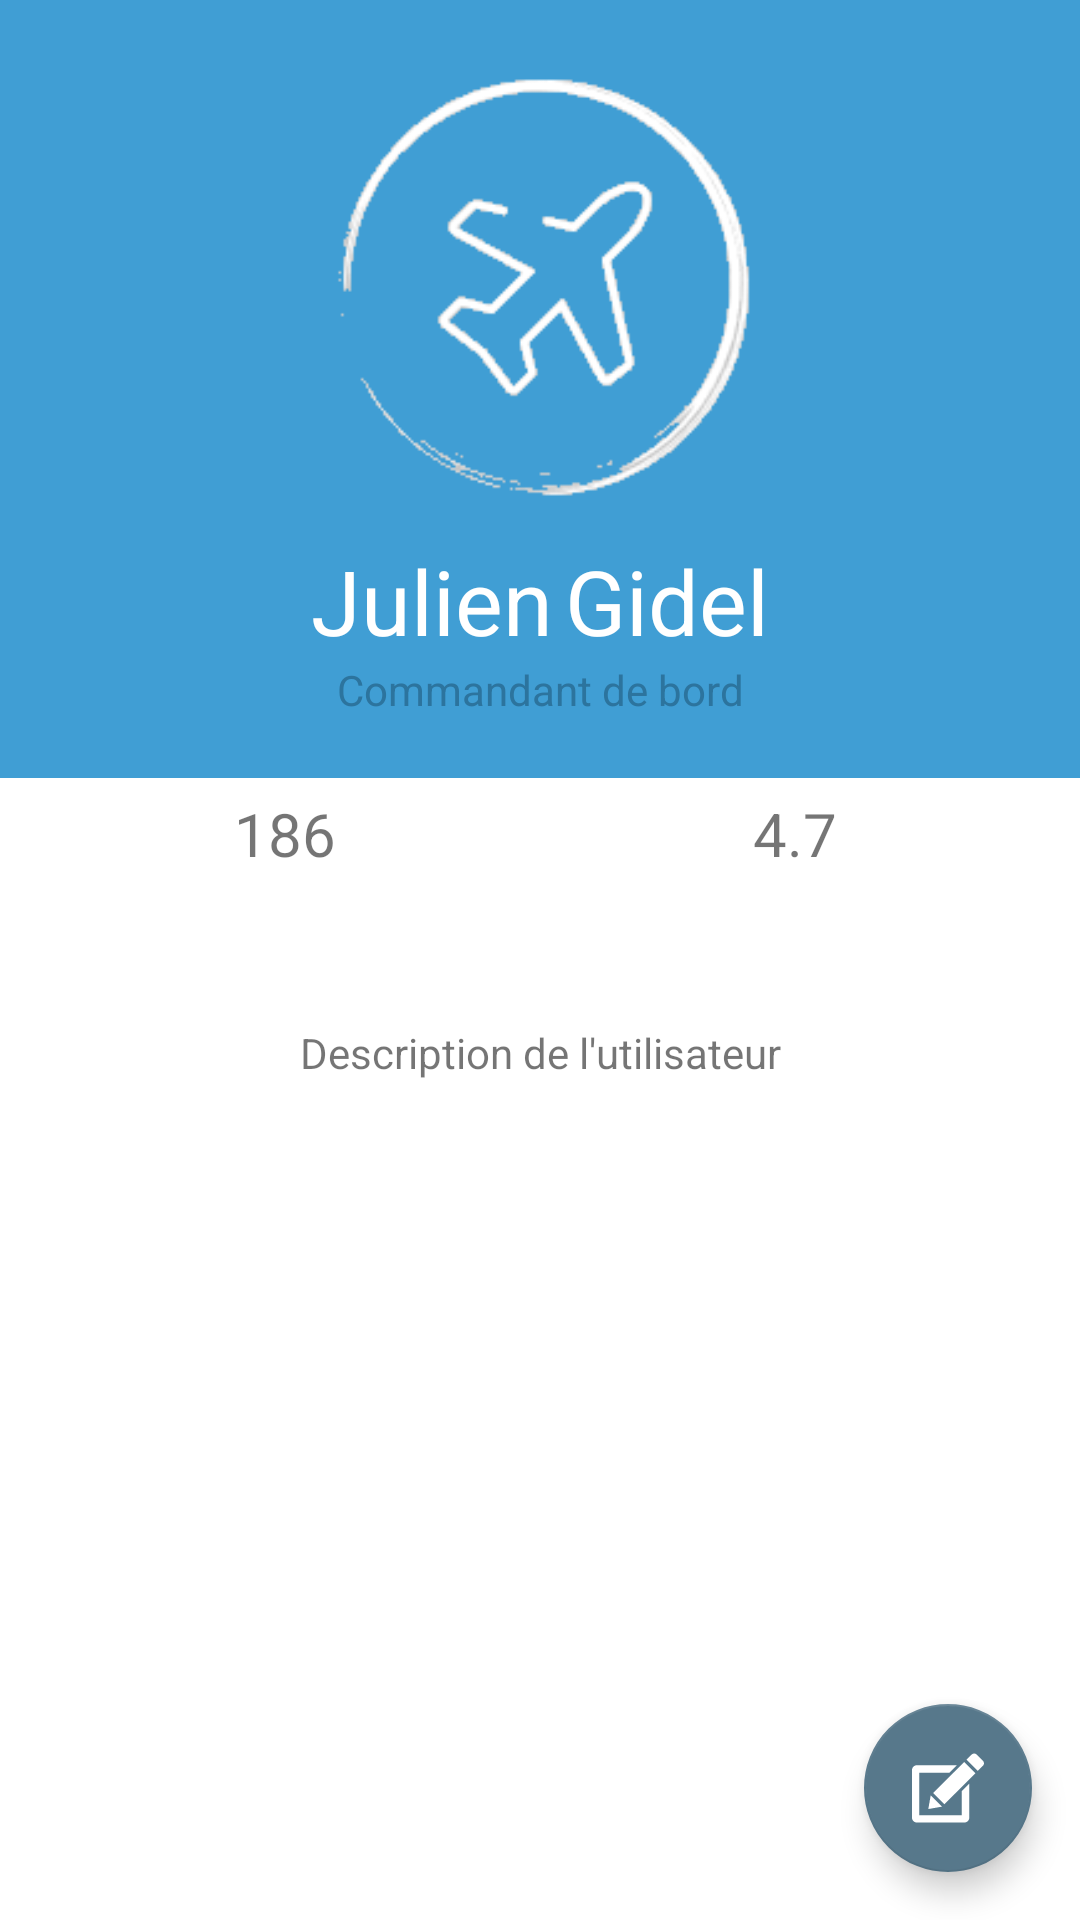

Screen size 1080×1920. Icon name, then its box in pixels as (x1, y1, x2, y2):
checkbox pen: (864, 1704, 1032, 1872)
